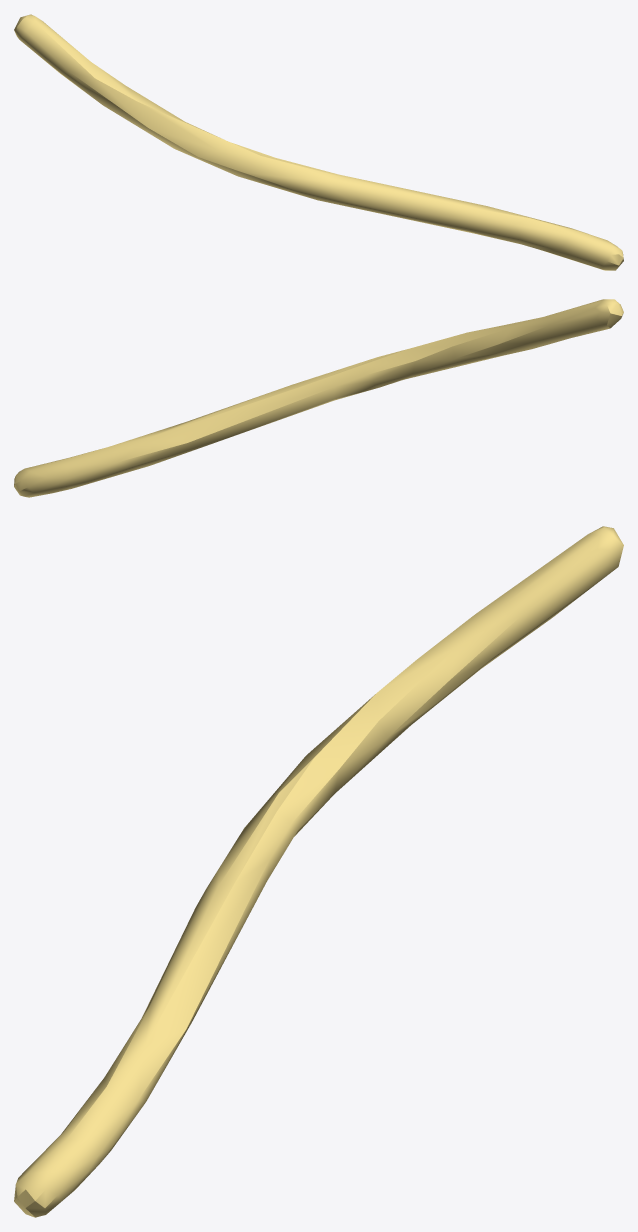
Rendered from fma52674_fj1311.glb.
3 renders of one model, top to bottom at view 1: azimuth 30°, elevation 25°; view 2: azimuth 210°, elevation 25°; view 3: azimuth 270°, elevation 25°, orthographic. The views are drawn at different scales.
Visible parts, largest first — view 1: FMA52674_FJ1311; view 2: FMA52674_FJ1311; view 3: FMA52674_FJ1311.
Boxes of the visible parts, box(x1,y1,x2,y2) form: FMA52674_FJ1311: box(14, 14, 623, 270); FMA52674_FJ1311: box(14, 299, 623, 497); FMA52674_FJ1311: box(14, 526, 623, 1217).
Size of the model in its own units: 0.00831 by 0.00416 by 0.00627.
